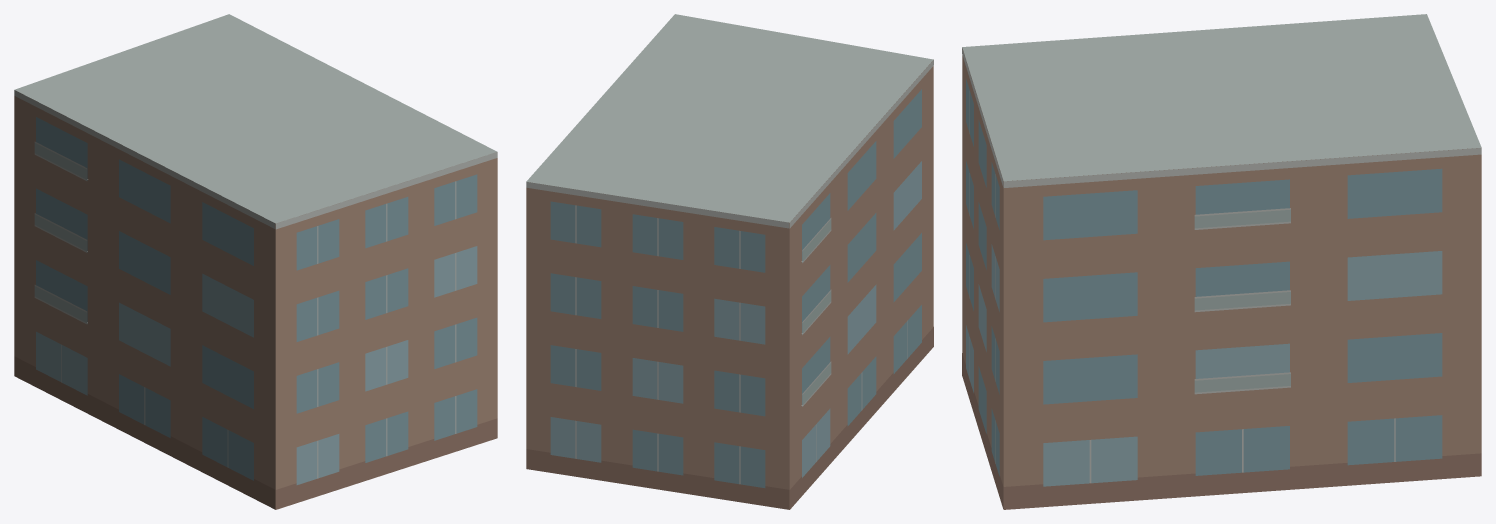
File: survey-upis-32848123.glb
The picture shows the model from 3 angles, left to right: view 1: azimuth 30°, elevation 25°; view 2: azimuth 150°, elevation 25°; view 3: azimuth 270°, elevation 25°; orthographic projection. The views are drawn at different scales.
Visible parts, largest first — view 1: survey-upis-32848123.tmp; view 2: survey-upis-32848123.tmp; view 3: survey-upis-32848123.tmp.
Boxes of the visible parts, x1,y1,x2,y2 form: survey-upis-32848123.tmp: (14,14,497,509); survey-upis-32848123.tmp: (526,14,933,509); survey-upis-32848123.tmp: (962,14,1481,509).
Bounding box in the file's own units: 12.9 × 11.8 × 16.92.
